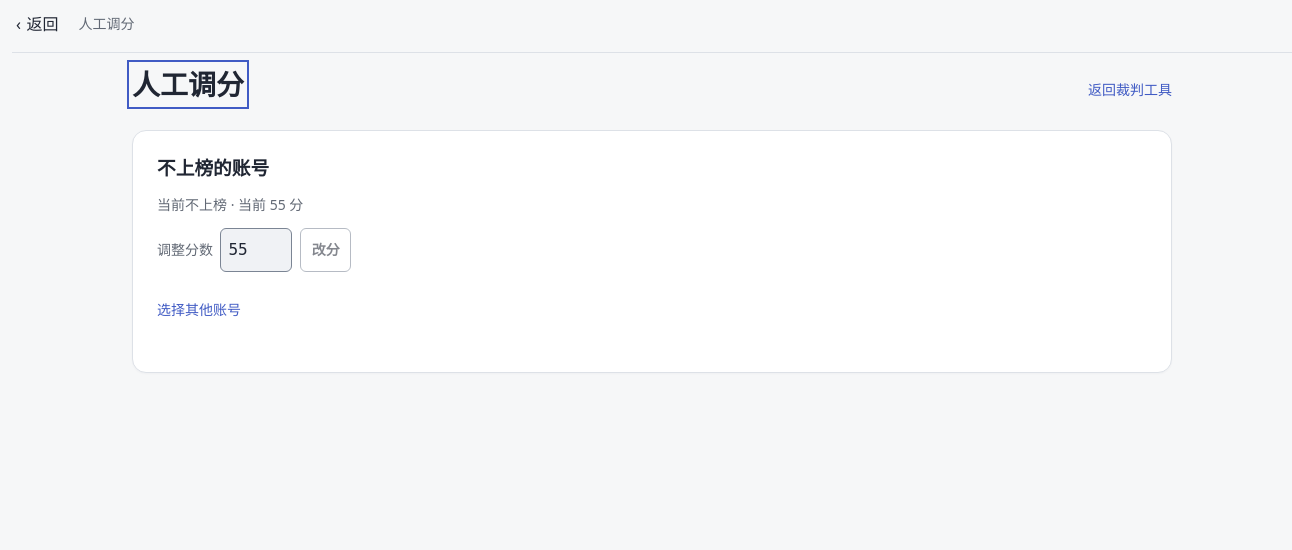
Test: manual score correction › turns permission failures into a private 404 and removes an outstanding leave confirmation
Replace the text in the number field with "70" at (256, 250), box [220,228,292,272]
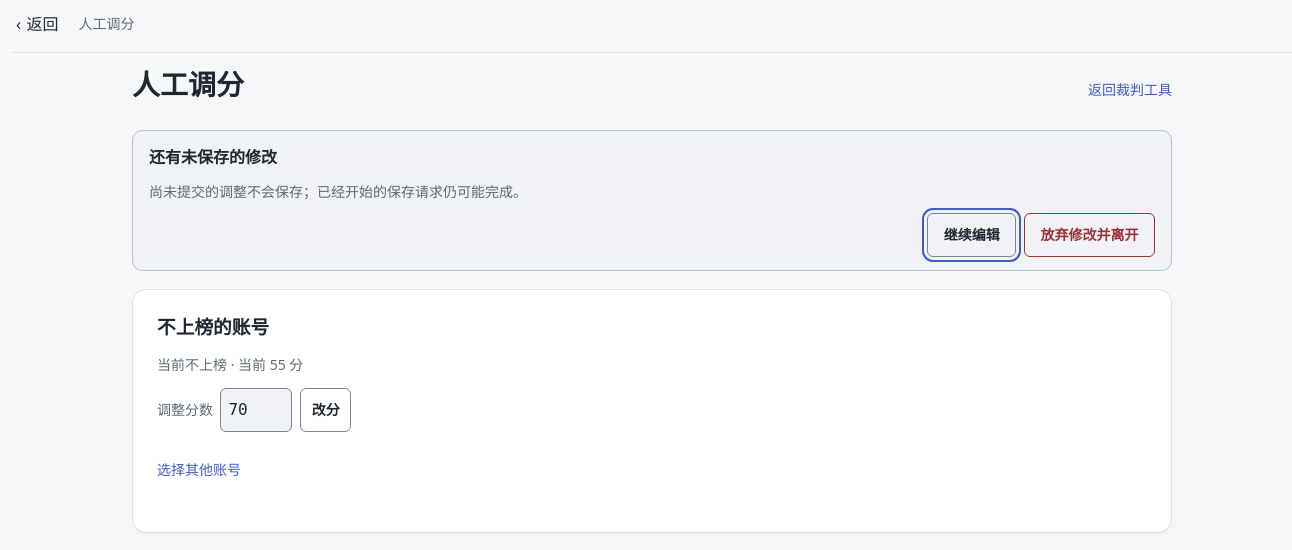
Expected: the element "还有未保存的修改" is shown, [132,130,1172,271]
Click the button "继续编辑" at (972, 235), box [927,213,1016,257]
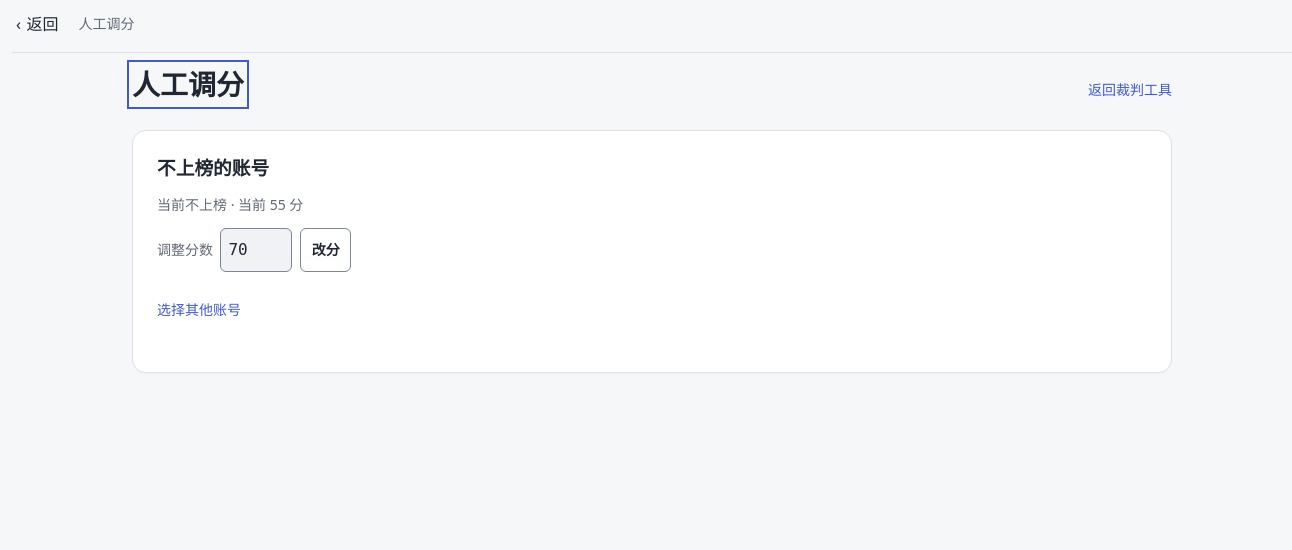
Click the button "改分" at (326, 250), box [300,228,351,272]
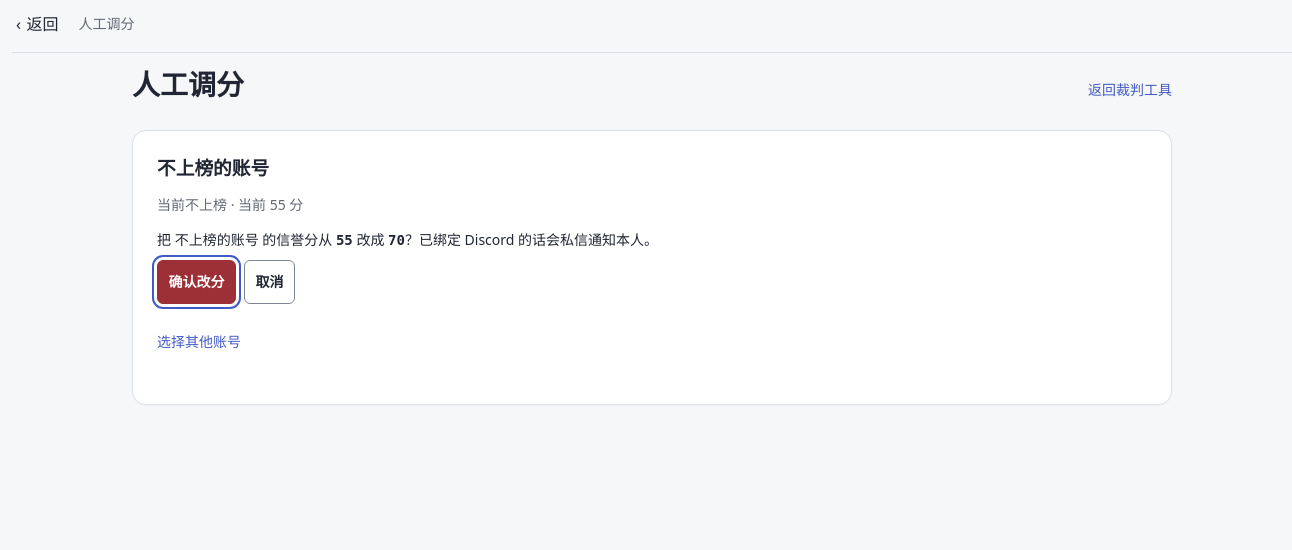
Click the button "确认改分" at (196, 282), box [157,260,236,304]
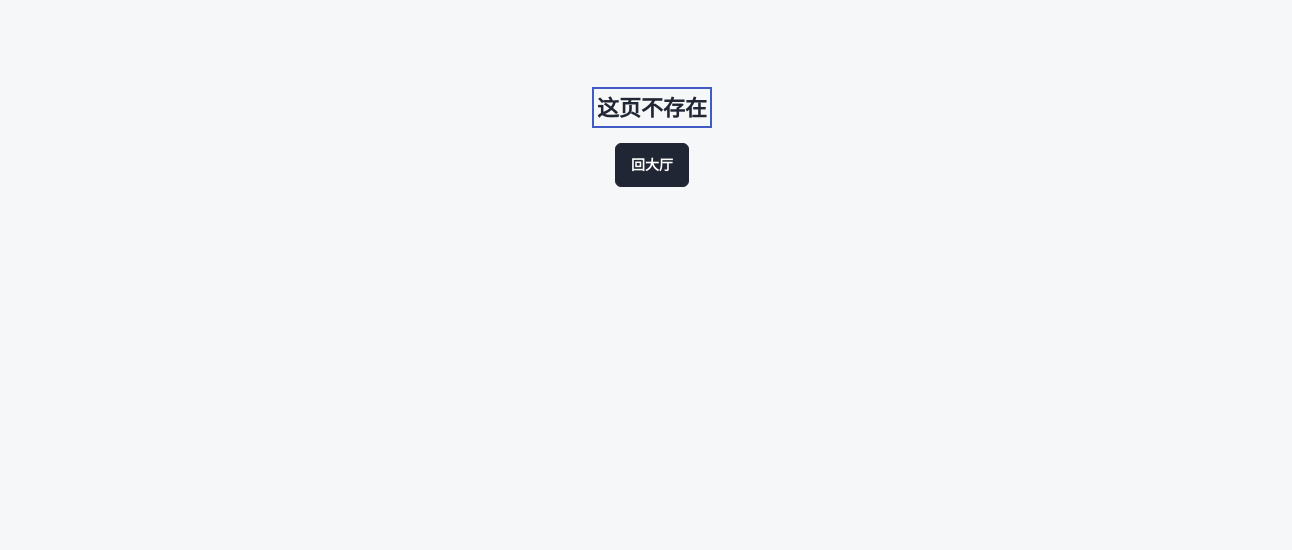
Expected: the heading "这页不存在" is shown, [597,92,707,123]
